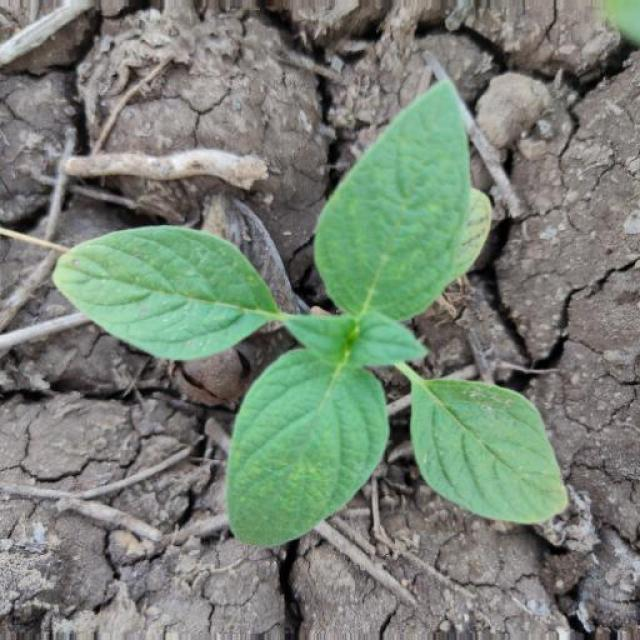crop: (49, 84, 572, 558)
